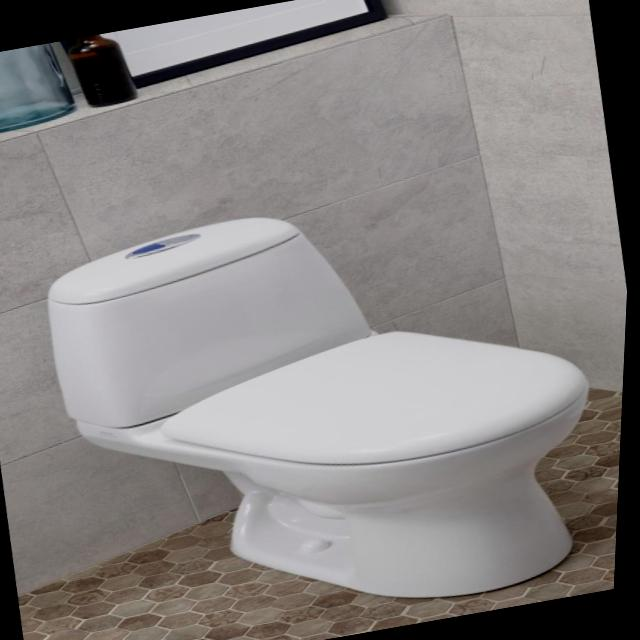toilet: (28, 160, 634, 640)
